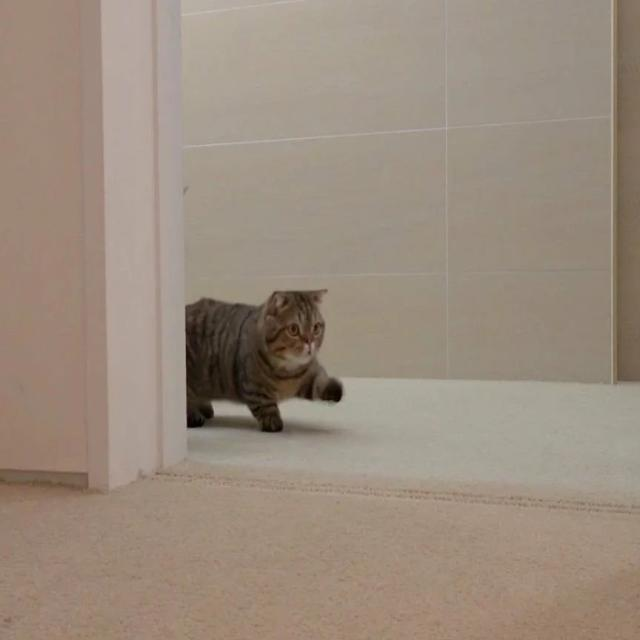Munchkin: (184, 282, 348, 438)
